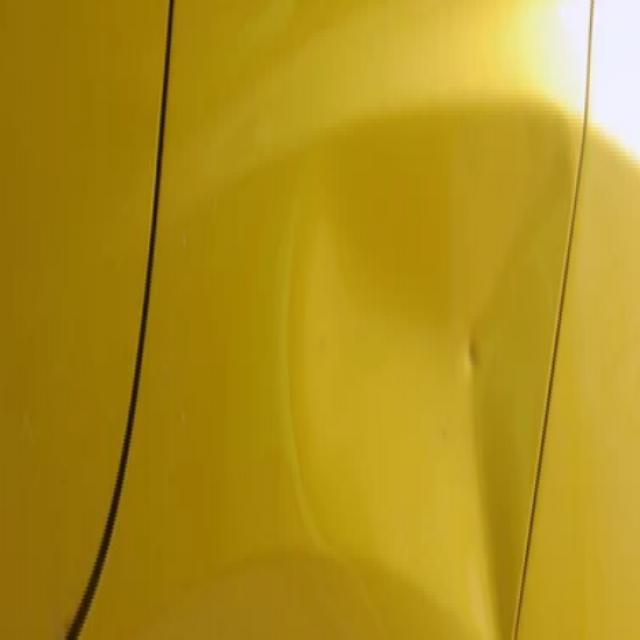dents: (282, 82, 564, 638)
